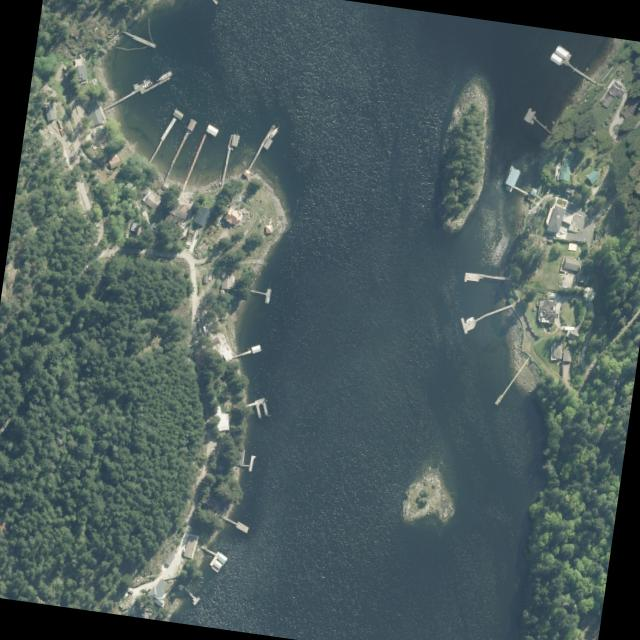large-vehicle: (202, 325, 206, 333)
ship: (155, 70, 172, 83), (268, 126, 279, 140), (142, 81, 152, 89), (464, 316, 473, 323)
small-vehicle: (58, 129, 64, 137), (195, 232, 200, 240), (127, 589, 133, 595), (63, 73, 67, 79), (90, 132, 94, 138), (200, 318, 203, 324)
